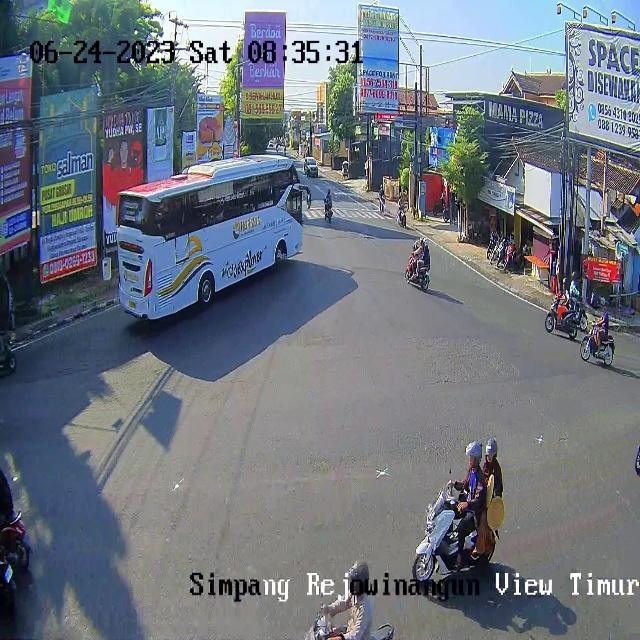bus: (413, 482, 501, 583), (304, 612, 394, 640), (580, 320, 615, 368), (545, 296, 578, 340), (406, 253, 429, 292), (396, 203, 408, 229), (378, 193, 387, 216), (324, 201, 332, 224)
car: (118, 154, 302, 322)
motorcycle: (304, 156, 319, 178)
